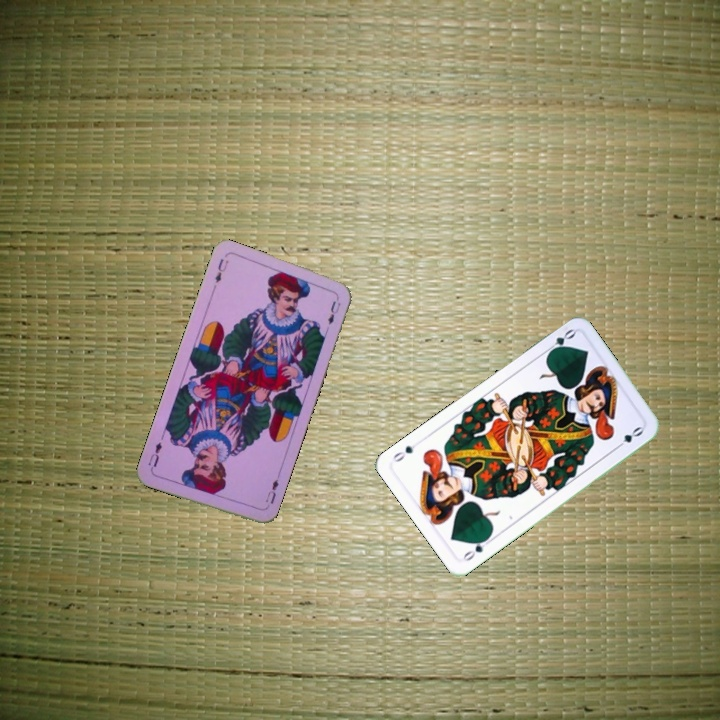EU: (261, 472, 281, 511), (211, 255, 231, 286)
GO: (541, 325, 578, 357), (458, 533, 494, 564)
